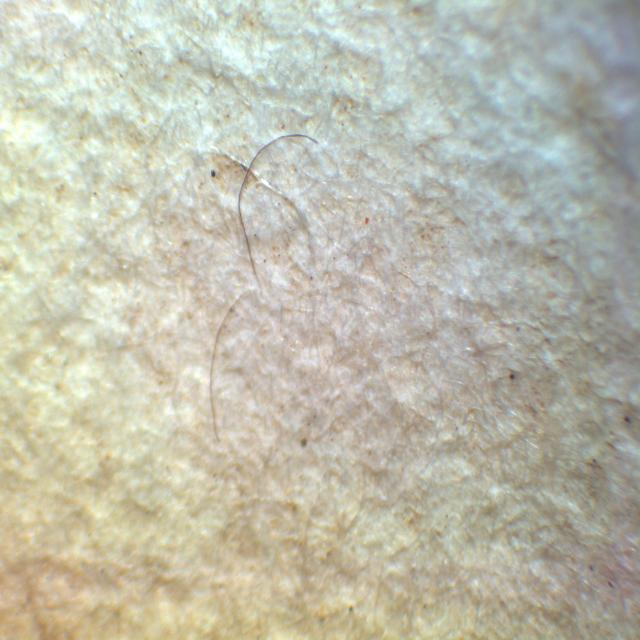microplastic: (208, 119, 319, 277)
